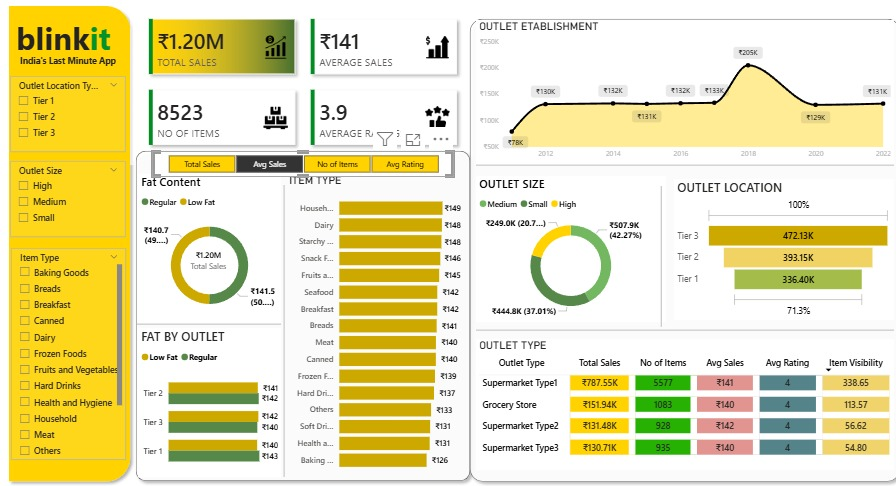

This screenshot's page, from the dashboard's own definition file:
{"tool":"powerbi","page":{"name":"Page 1","canvas":[1400,800],"ordinal":0},"visuals":[{"type":"shape","box":[10,0,205,750],"z":0},{"type":"textbox","box":[26.8,20.5,159.1,75.6],"z":1000},{"type":"textbox","box":[15.7,80.3,190.6,31.5],"z":2000},{"type":"cardVisual","fields":{"Data":["BlinkIT Grocery Data.Total Sales","BlinkIT Grocery Data.Avg Sales","BlinkIT Grocery Data.No of Items","BlinkIT Grocery Data.Avg Rating"]},"box":[206.3,0,532.3,253.5],"z":3000},{"type":"shape","box":[206.3,223.6,532.3,526],"z":4000},{"type":"donutChart","title":"Fat Content","fields":{"Y":["BlinkIT Grocery Data.Total Sales"],"Category":["BlinkIT Grocery Data.Item Fat Content"]},"box":[218.3,268.3,220,230],"z":5000},{"type":"slicer","fields":{"Values":["Metrics 3.Metrics"]},"box":[239.4,233.1,464.6,39.4],"z":6000},{"type":"cardVisual","fields":{"Data":["BlinkIT Grocery Data.Total Sales"]},"box":[268.3,365,118.3,71.7],"z":7000},{"type":"clusteredBarChart","title":"FAT BY OUTLET","fields":{"Y":["BlinkIT Grocery Data.Total Sales"],"Category":["BlinkIT Grocery Data.Outlet Location Type"],"Series":["BlinkIT Grocery Data.Item Fat Content"]},"box":[218.9,503.9,220.5,229.9],"z":8000},{"type":"shape","box":[216.7,455,221.7,86.7],"z":9000},{"type":"shape","box":[434.6,285,15.7,448.8],"z":10000},{"type":"barChart","title":"ITEM TYPE","fields":{"Y":["BlinkIT Grocery Data.Total Sales"],"Category":["BlinkIT Grocery Data.Item Type"]},"box":[445.7,267.7,274,466.1],"z":11000},{"type":"shape","box":[720,20,680,730],"z":12000},{"type":"lineChart","title":"OUTLET ETABLISHMENT","fields":{"Y":["BlinkIT Grocery Data.Total Sales"],"Category":["BlinkIT Grocery Data.Outlet Establishment Year"]},"box":[738.3,30,643.3,223.3],"z":13000},{"type":"donutChart","title":"OUTLET SIZE","fields":{"Y":["BlinkIT Grocery Data.Total Sales"],"Category":["BlinkIT Grocery Data.Outlet Size"]},"box":[738.3,270,291.7,225],"z":14000},{"type":"shape","box":[1016.7,286.7,13.3,216.7],"z":15000},{"type":"funnel","title":"OUTLET LOCATION","fields":{"Category":["BlinkIT Grocery Data.Outlet Location Type"],"Y":["Sum(BlinkIT Grocery Data.Sales)"]},"box":[1043.3,275,338.3,216.7],"z":16000},{"type":"shape","box":[738.3,465,643.3,86.7],"z":17000},{"type":"pivotTable","title":"OUTLET TYPE","fields":{"Rows":["BlinkIT Grocery Data.Outlet Type"],"Values":["BlinkIT Grocery Data.Total Sales","BlinkIT Grocery Data.No of Items","BlinkIT Grocery Data.Avg Sales","BlinkIT Grocery Data.Avg Rating","Sum(BlinkIT Grocery Data.Item Visibility)"]},"box":[738.3,521.7,643.3,201.7],"z":18000},{"type":"shape","box":[738.3,210,643.3,86.7],"z":19000},{"type":"slicer","fields":{"Values":["BlinkIT Grocery Data.Outlet Location Type"]},"box":[21.7,116.7,178.3,116.7],"z":20000},{"type":"slicer","fields":{"Values":["BlinkIT Grocery Data.Outlet Size"]},"box":[21.7,248.3,178.3,116.7],"z":21000},{"type":"slicer","fields":{"Values":["BlinkIT Grocery Data.Item Type"]},"box":[23.3,381.7,176.7,341.7],"z":22000}]}

Visuals, with their boxes on the page's 1400x800 design canvas (x1, y1, x2, y2). These are canvas units, not pixel positions in the 896x486 screenshot, which may show the page scaled, cropped or inside an application window:
shape: select_region(10, 0, 215, 750)
textbox: select_region(27, 20, 186, 96)
textbox: select_region(16, 80, 206, 112)
cardVisual - BlinkIT Grocery Data.Total Sales x BlinkIT Grocery Data.Avg Sales: select_region(206, 0, 739, 254)
shape: select_region(206, 224, 739, 750)
"Fat Content" donutChart: select_region(218, 268, 438, 498)
slicer - Metrics 3.Metrics: select_region(239, 233, 704, 272)
cardVisual - BlinkIT Grocery Data.Total Sales: select_region(268, 365, 387, 437)
"FAT BY OUTLET" clusteredBarChart: select_region(219, 504, 439, 734)
shape: select_region(217, 455, 438, 542)
shape: select_region(435, 285, 450, 734)
"ITEM TYPE" barChart: select_region(446, 268, 720, 734)
shape: select_region(720, 20, 1400, 750)
"OUTLET ETABLISHMENT" lineChart: select_region(738, 30, 1382, 253)
"OUTLET SIZE" donutChart: select_region(738, 270, 1030, 495)
shape: select_region(1017, 287, 1030, 503)
"OUTLET LOCATION" funnel: select_region(1043, 275, 1382, 492)
shape: select_region(738, 465, 1382, 552)
"OUTLET TYPE" pivotTable: select_region(738, 522, 1382, 723)
shape: select_region(738, 210, 1382, 297)
slicer - BlinkIT Grocery Data.Outlet Location Type: select_region(22, 117, 200, 233)
slicer - BlinkIT Grocery Data.Outlet Size: select_region(22, 248, 200, 365)
slicer - BlinkIT Grocery Data.Item Type: select_region(23, 382, 200, 723)
